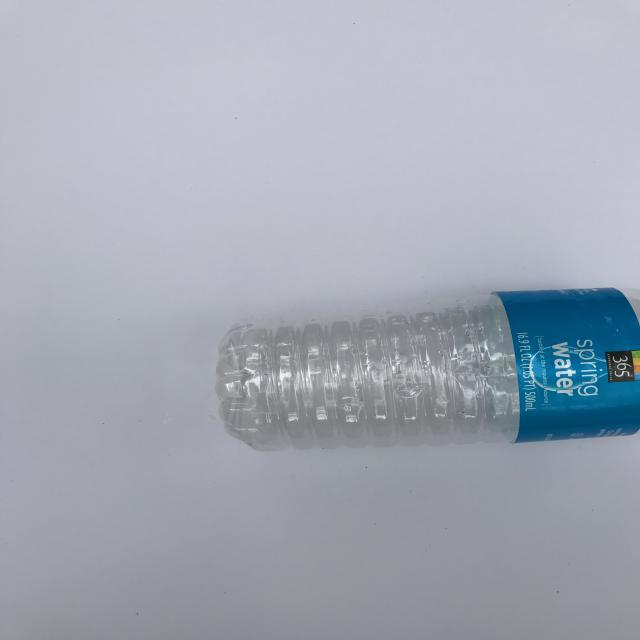plastic: (211, 286, 640, 456)
